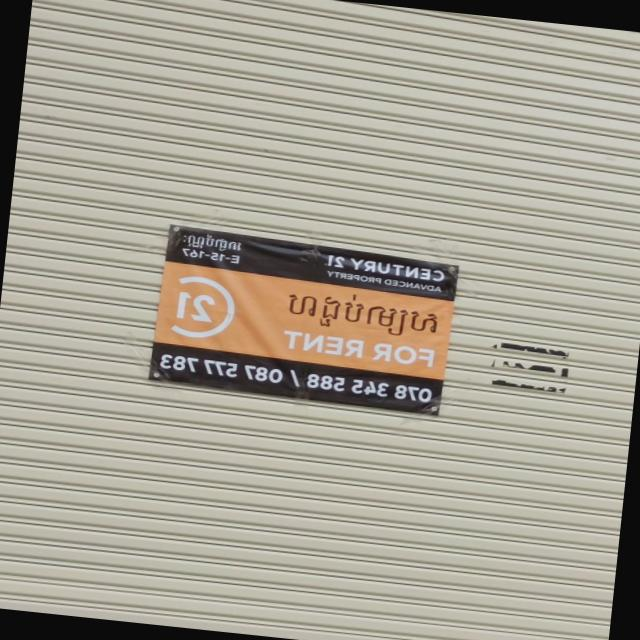390: (153, 348, 439, 409)
Yolov11kh: (282, 283, 443, 345), (183, 230, 246, 255)
